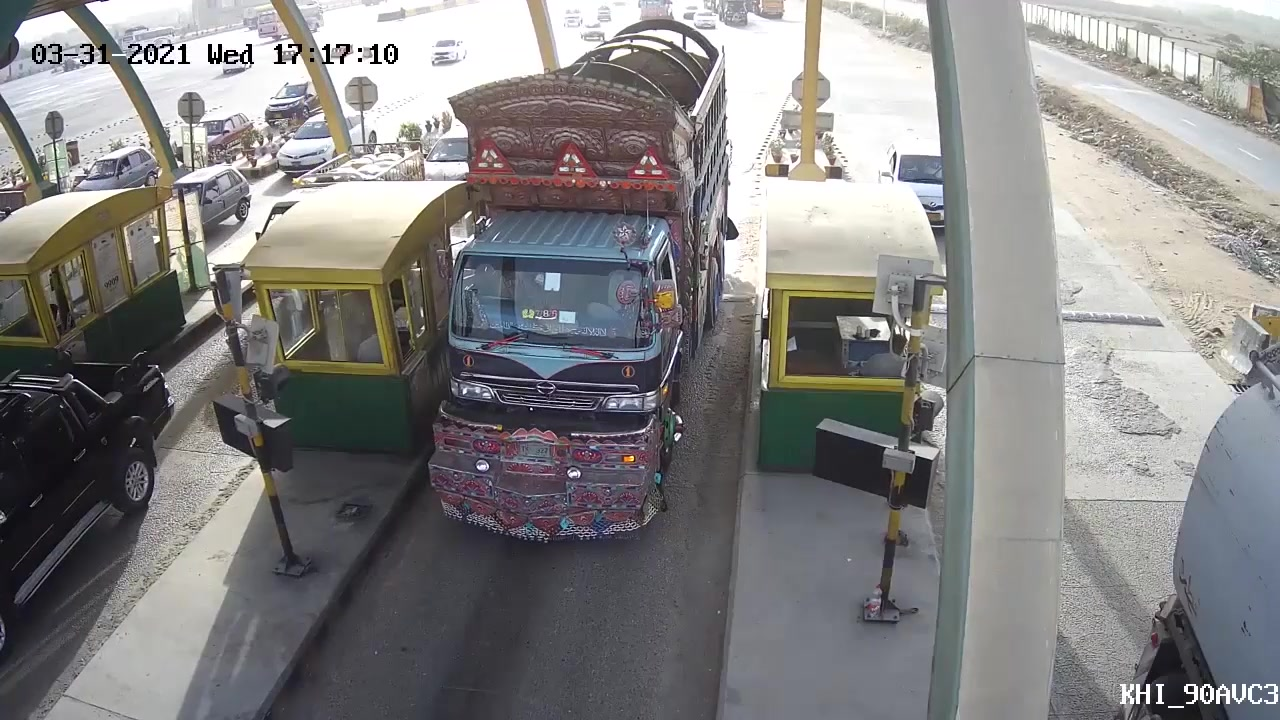F5: (426, 19, 741, 559)
